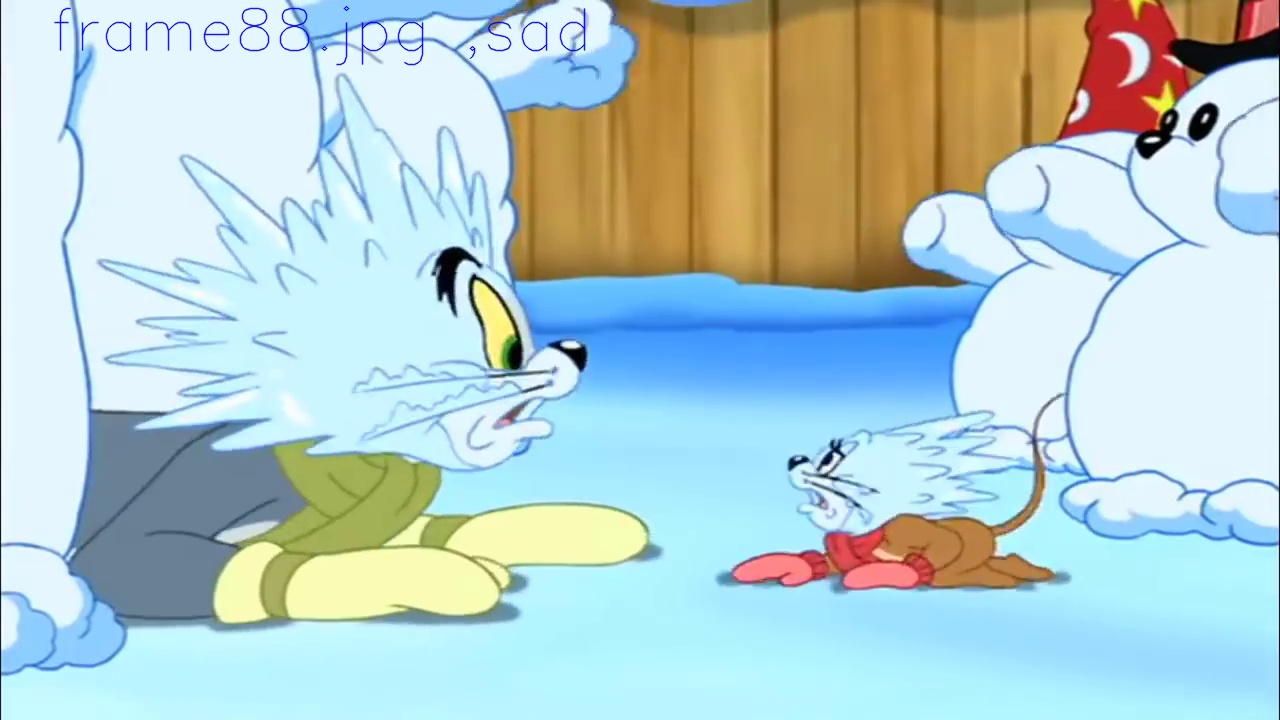sad: (413, 242, 587, 467), (788, 429, 874, 537)
